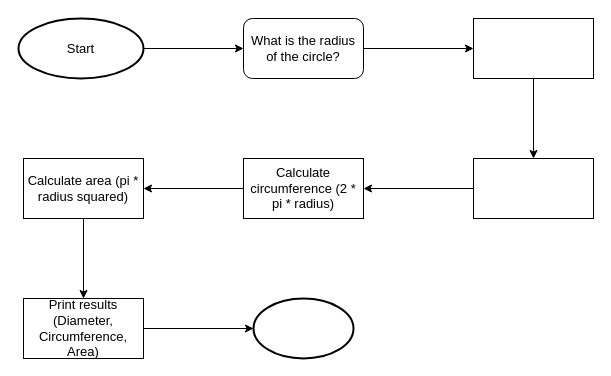
This 611x376 diagram has some shape labels left out. Here are the shapes that lost their labels. From the top down, the box of each, then its label:
(472, 18, 594, 78): Collect radius
(472, 158, 594, 218): Calculate diameter (2 * radius)
(252, 297, 354, 359): End
